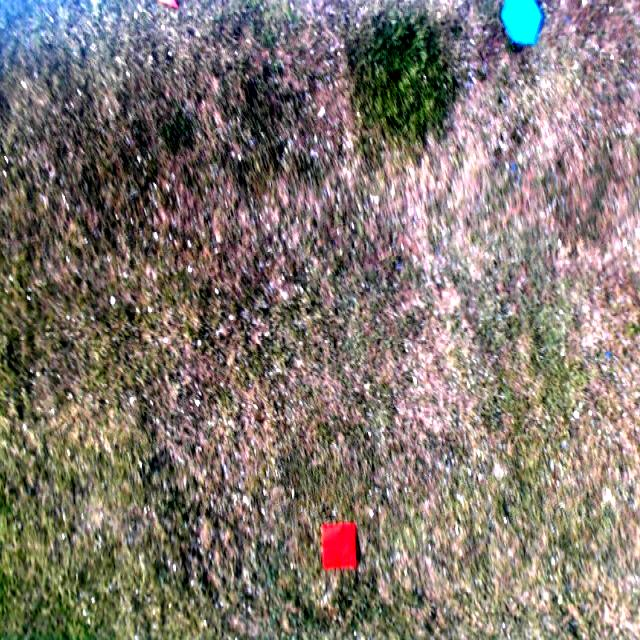red_square: (321, 522, 357, 572)
